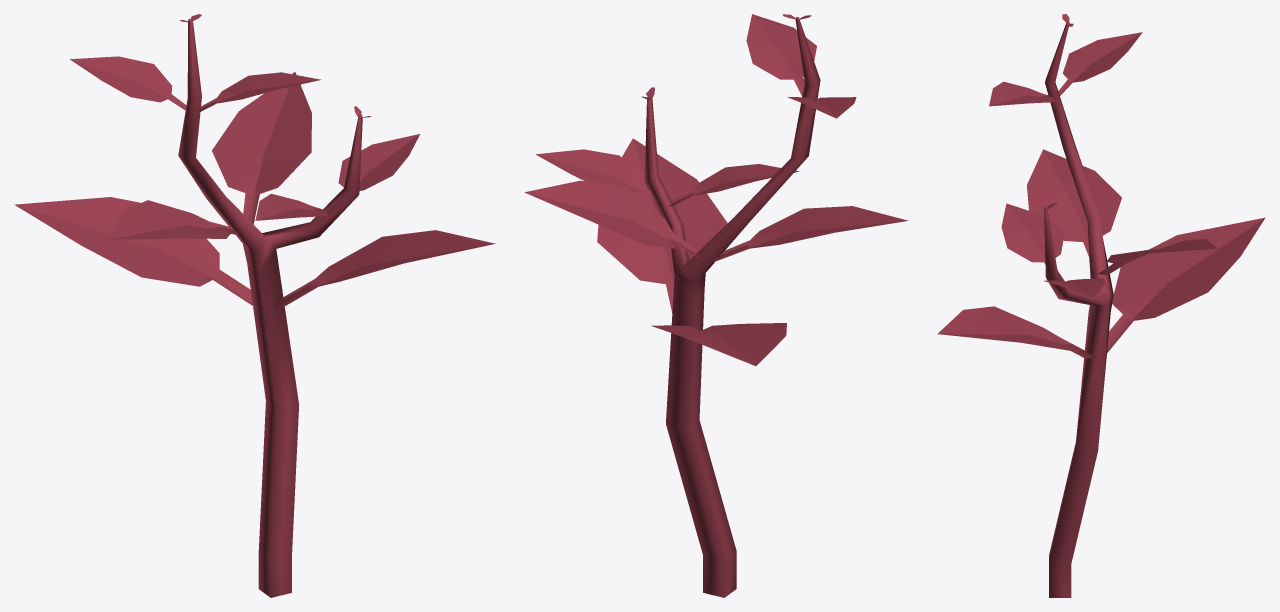
File: SM_Blooddrop_Growing2.fbx
3 renders of one model, left to right at view 1: azimuth 30°, elevation 25°; view 2: azimuth 150°, elevation 25°; view 3: azimuth 270°, elevation 25°, orthographic. The views are drawn at different scales.
Visible parts, largest first — view 1: SM_Blooddrop_Growing2; view 2: SM_Blooddrop_Growing2; view 3: SM_Blooddrop_Growing2.
Part boxes in pixels (<box>): SM_Blooddrop_Growing2: <box>14,14,495,597</box>; SM_Blooddrop_Growing2: <box>524,14,908,597</box>; SM_Blooddrop_Growing2: <box>938,14,1265,597</box>.
Bounding box in the file's own units: 30.65 × 50.78 × 28.1.
